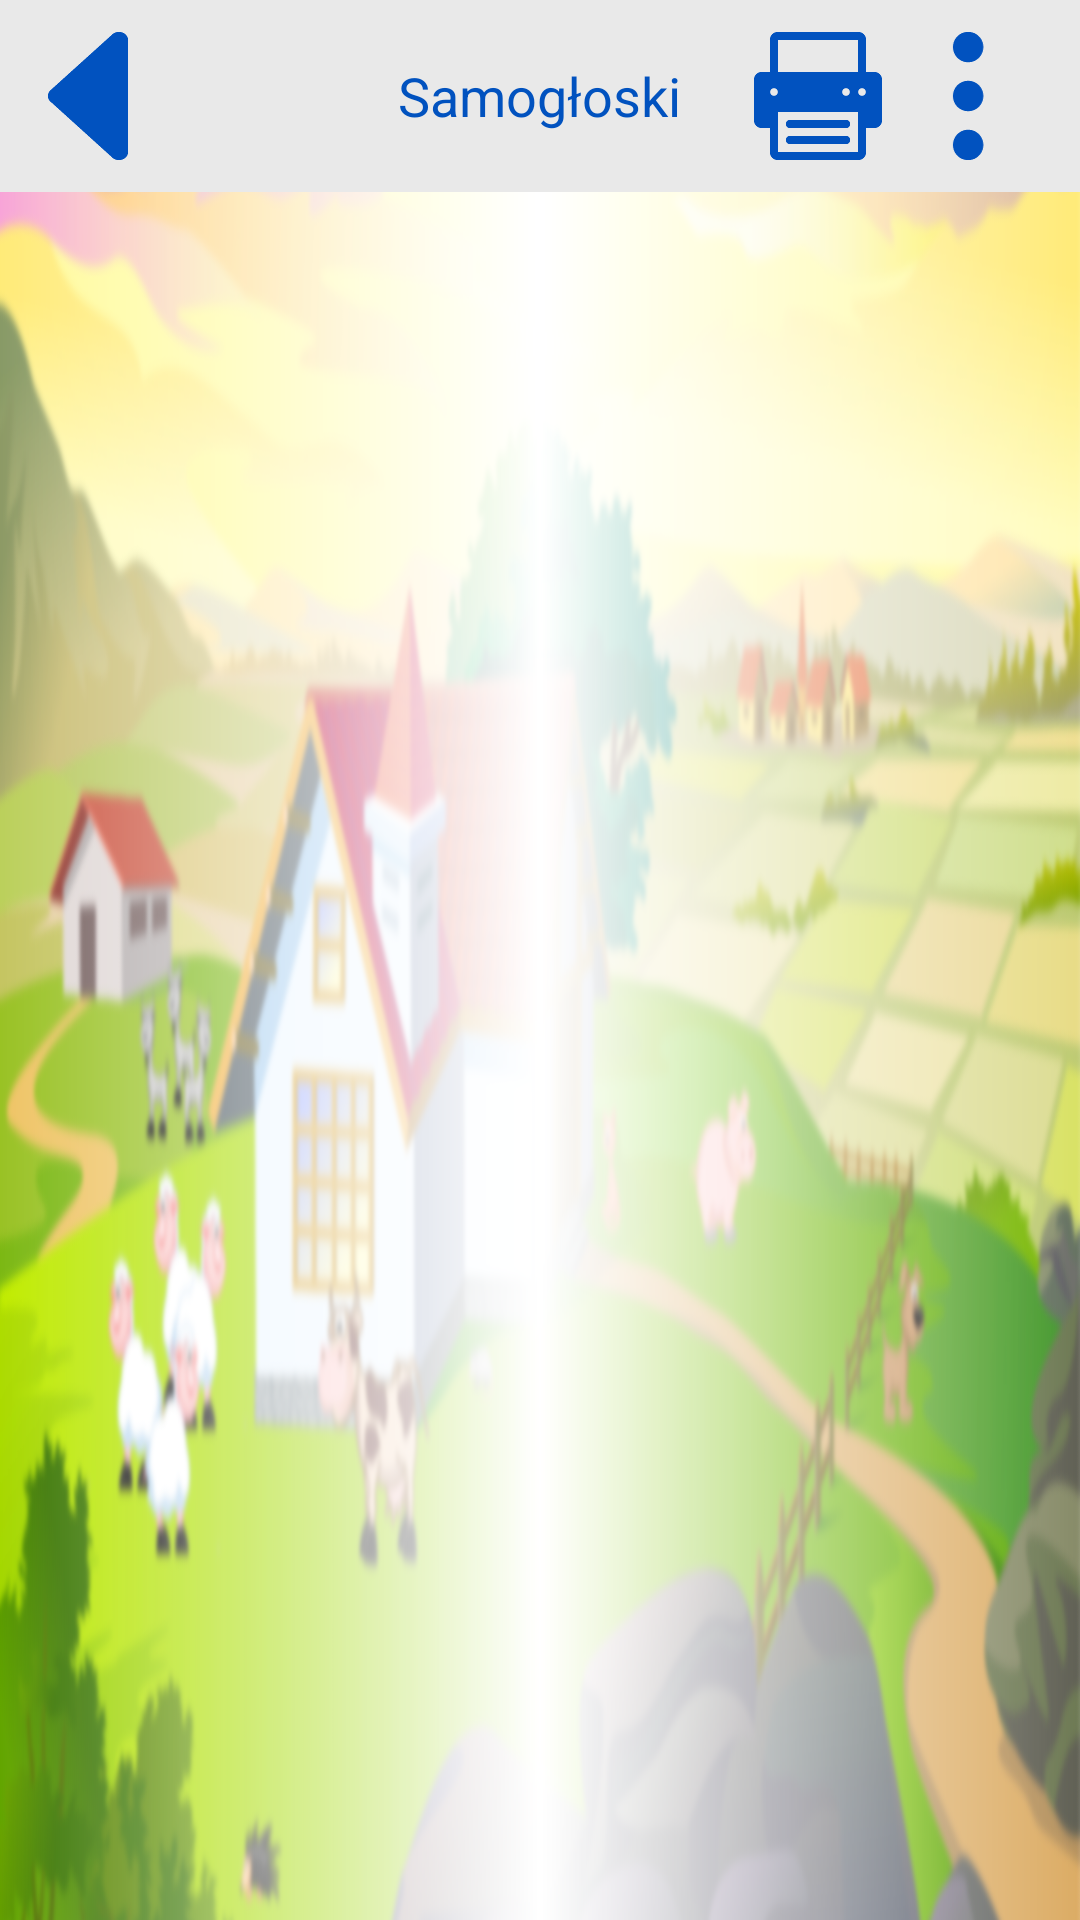

Named icons in this screenshot (1080px×1920px) and their bounding boxes, (x1, y1, x2, y2):
Przycisk powrotu: (48, 32, 128, 160)
Przycisk wydruku: (754, 32, 882, 160)
